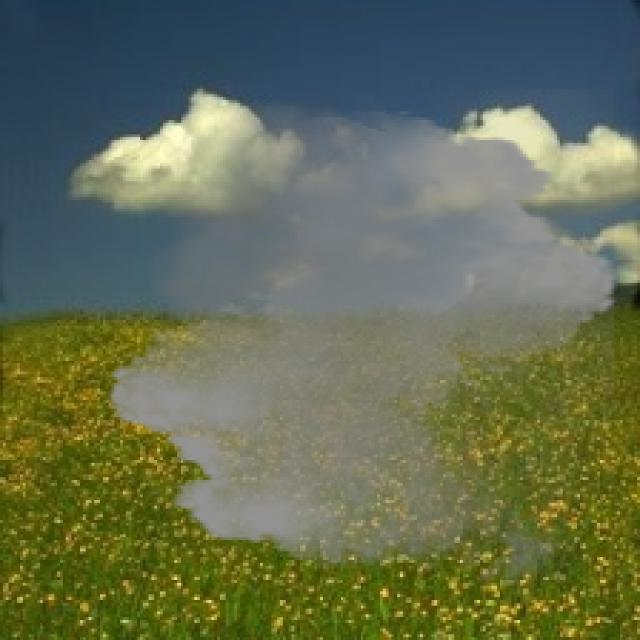smoke: (91, 88, 634, 603)
